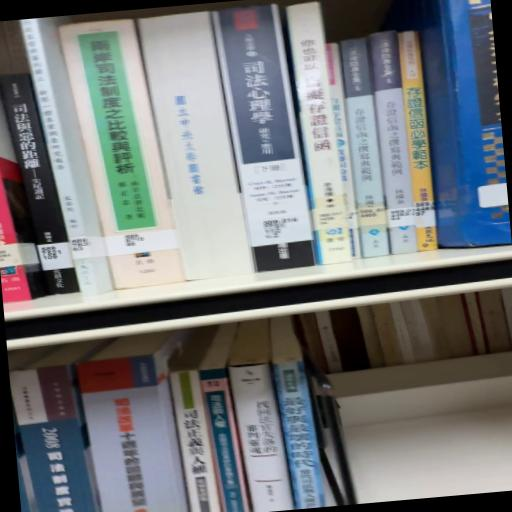backward: (143, 13, 257, 288)
book: (61, 19, 178, 240), (1, 20, 75, 302), (289, 2, 365, 274), (229, 364, 295, 512), (170, 367, 226, 512)
